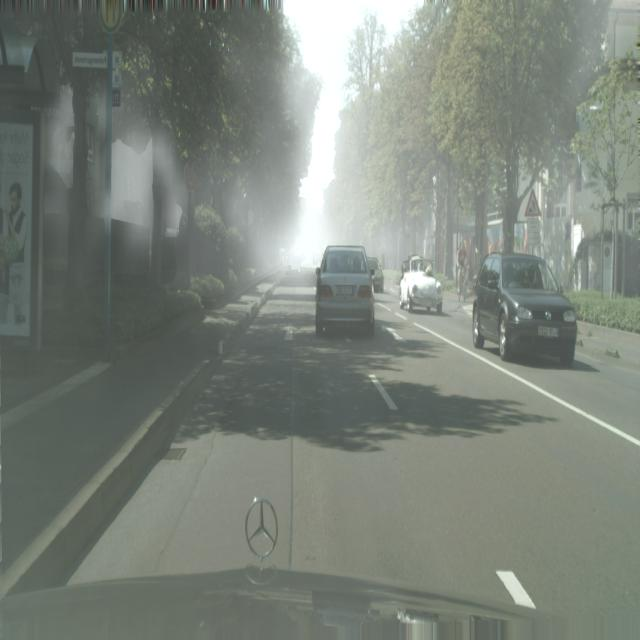car: (457, 241, 468, 309)
truck: (472, 253, 577, 367), (315, 245, 375, 338), (399, 254, 442, 314), (368, 257, 384, 294)
